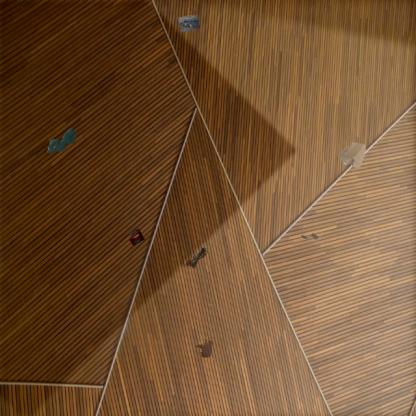dirty: (337, 140, 368, 170), (183, 244, 211, 270), (176, 13, 202, 34), (127, 226, 147, 249), (299, 231, 323, 242)
liquid: (48, 127, 76, 153), (194, 336, 214, 358)
